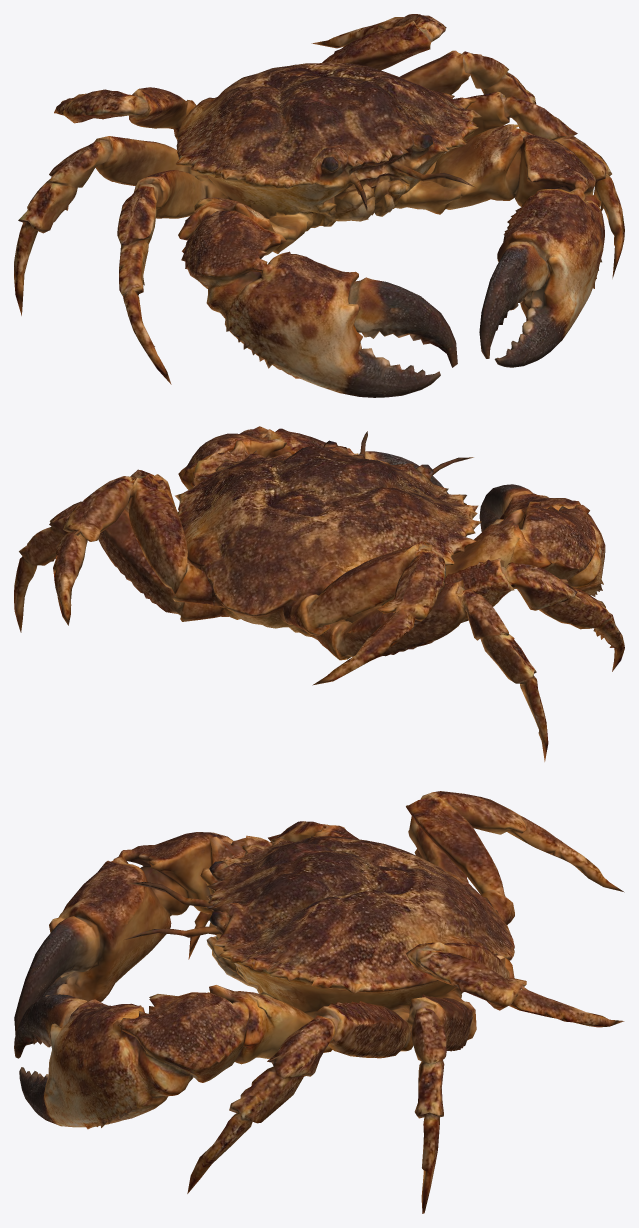
File: Crab.obj
The picture shows the model from 3 angles, top to bottom: view 1: azimuth 30°, elevation 25°; view 2: azimuth 150°, elevation 25°; view 3: azimuth 270°, elevation 25°; orthographic projection. The views are drawn at different scales.
Bounding box in the file's own units: 1 × 0.3648 × 0.9184.
1 material, 1 textured.
